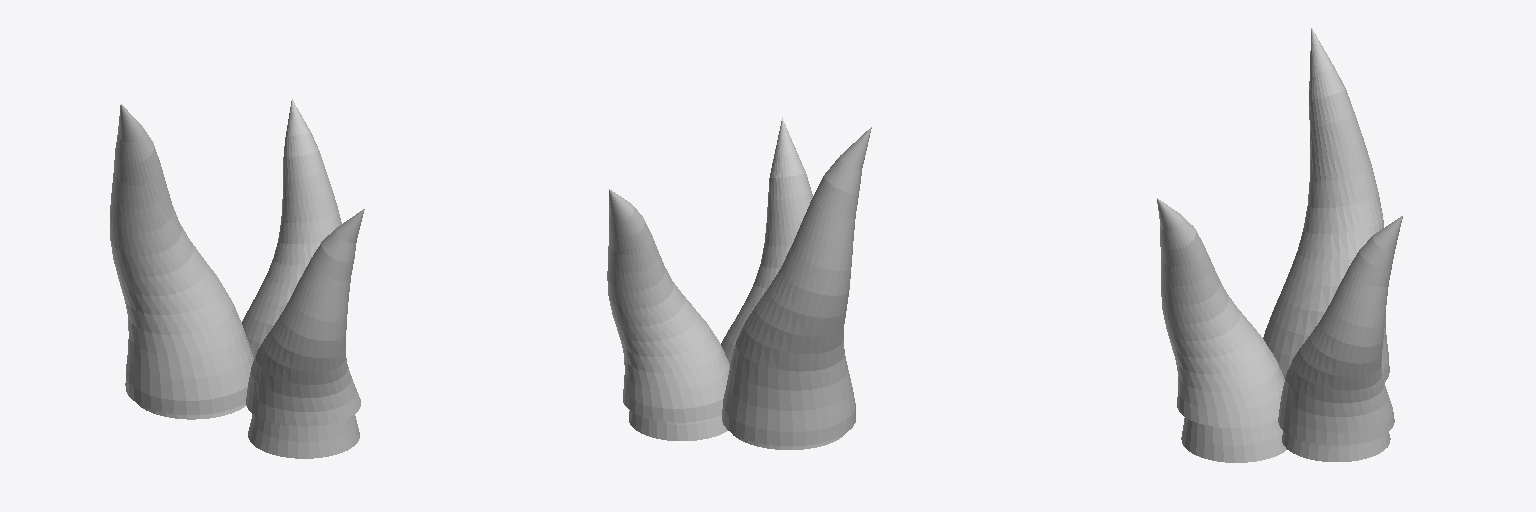
Rendered from Grass.obj.
The picture shows the model from 3 angles: view 1: azimuth 30°, elevation 25°; view 2: azimuth 150°, elevation 25°; view 3: azimuth 270°, elevation 25°; orthographic projection.
Visible parts, largest first — view 1: Black; view 2: Black; view 3: Black.
Part boxes in pixels (left/top/right/bottom): Black: left=110, top=99, right=364, bottom=458; Black: left=607, top=118, right=871, bottom=449; Black: left=1157, top=28, right=1402, bottom=462.
Bounding box in the file's own units: 0.0929 × 0.1263 × 0.0828.